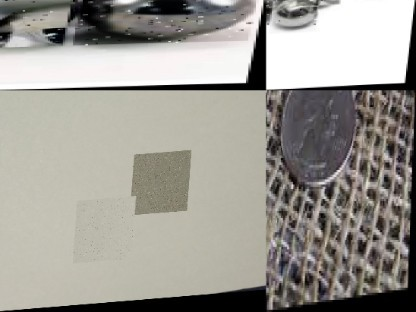ironball: (74, 0, 258, 45), (0, 0, 75, 47), (269, 0, 319, 33), (265, 90, 268, 145)
